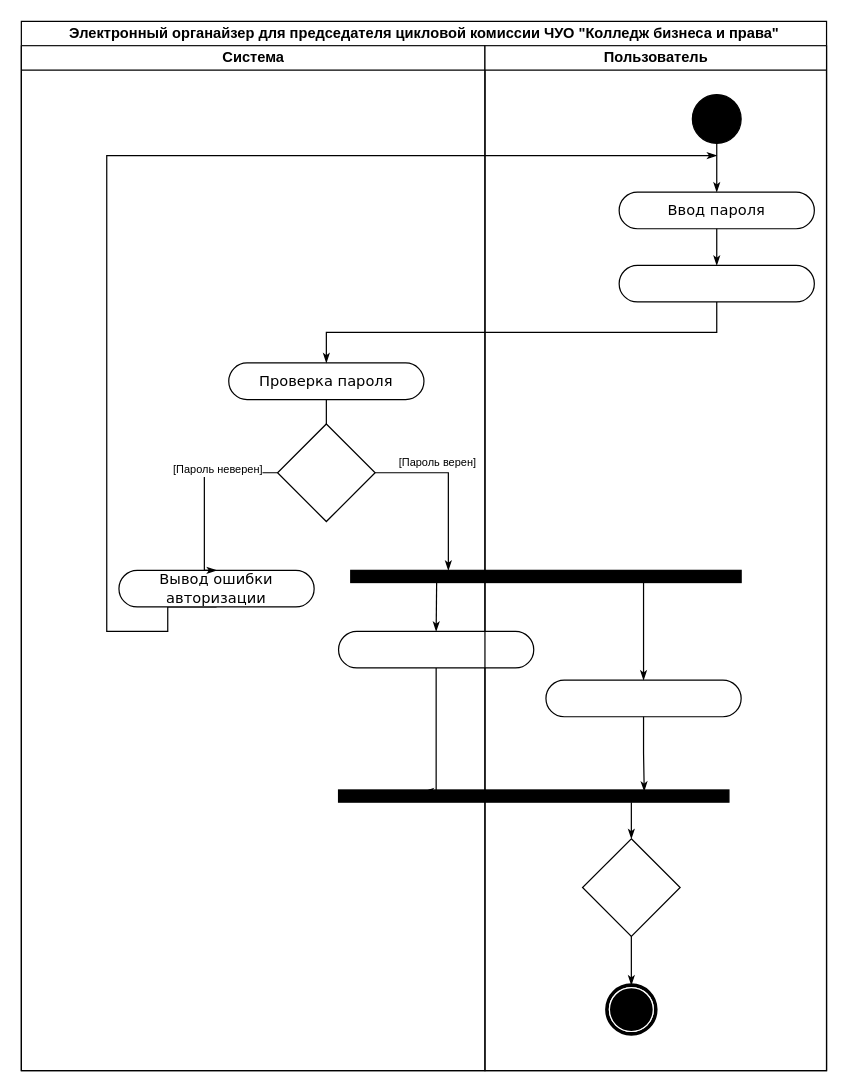
This 848x1092 diagram has some shape labels left out. Each missing label, with the centre of its shape:
Нажатие на кнопку "Войти": [716,283]
Открытие главного окна: [435,649]
Переход на главную стрнаницу: [643,698]
